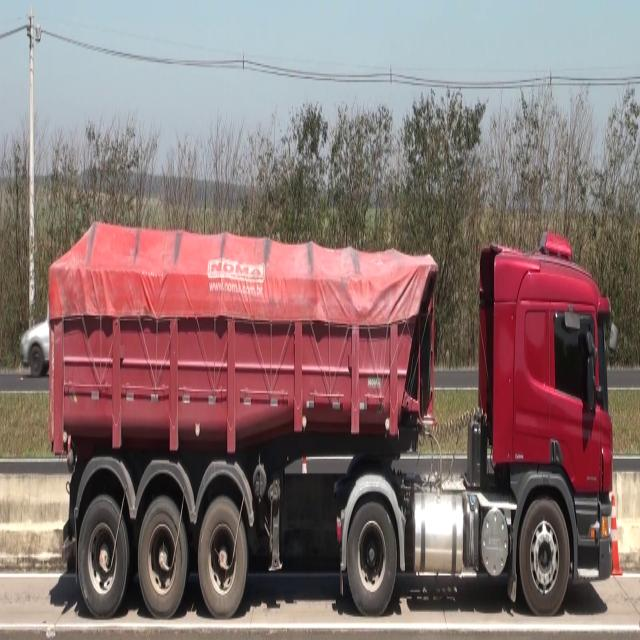-axle: (138, 494, 190, 618), (519, 492, 570, 617), (198, 497, 248, 621), (77, 497, 129, 616), (346, 497, 397, 618)
